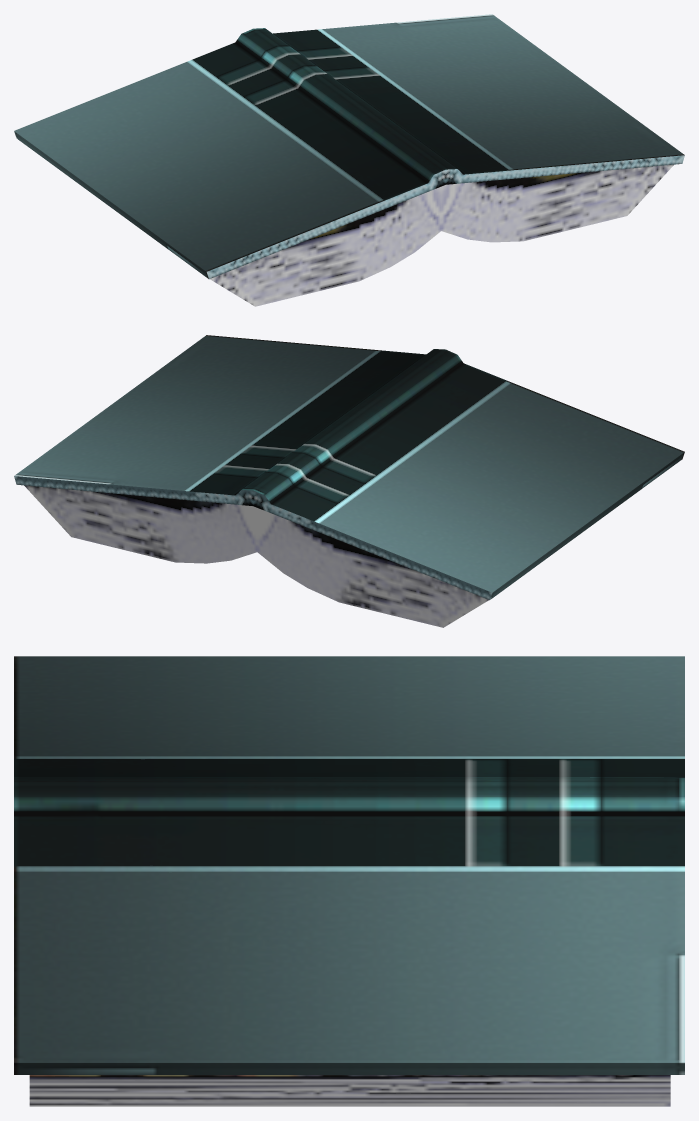
File: Book02.FBX
The picture shows the model from 3 angles, top to bottom: view 1: azimuth 30°, elevation 25°; view 2: azimuth 150°, elevation 25°; view 3: azimuth 270°, elevation 25°; orthographic projection. The views are drawn at different scales.
Parts seen in each view (by area): view 1: Book02; view 2: Book02; view 3: Book02.
Boxes of the visible parts, x1,y1,x2,y2 form: Book02: [14, 14, 684, 306]; Book02: [14, 335, 684, 627]; Book02: [14, 656, 684, 1106].
Size of the model in its own units: 61.65 by 42.98 by 11.7.
